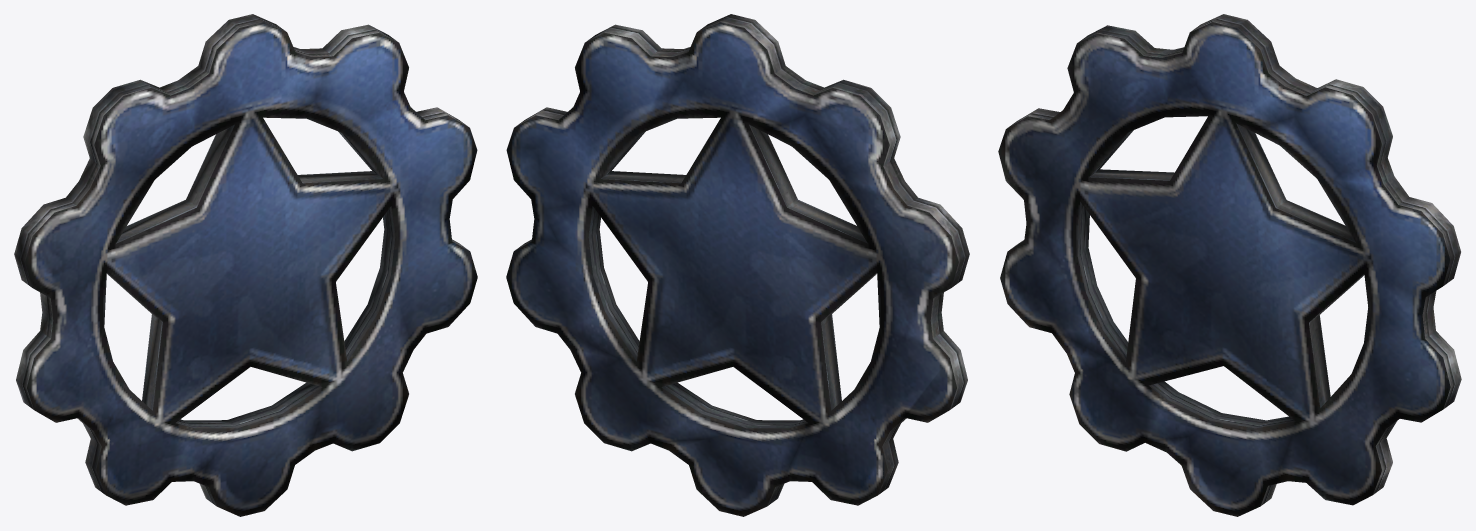
Rendered from led.glb.
3 views of the same model, side by side, from view 1: azimuth 30°, elevation 25°; view 2: azimuth 150°, elevation 25°; view 3: azimuth 330°, elevation 25° (orthographic).
Visible parts, largest first — view 1: Line01; view 2: Line01; view 3: Line01.
Part boxes in pixels (x1=…): Line01: x1=14, y1=14, x2=477, y2=516; Line01: x1=506, y1=14, x2=969, y2=516; Line01: x1=998, y1=14, x2=1461, y2=516.
Bounding box in the file's own units: 31.75 × 32.79 × 1.33.
1 material, 1 textured.
